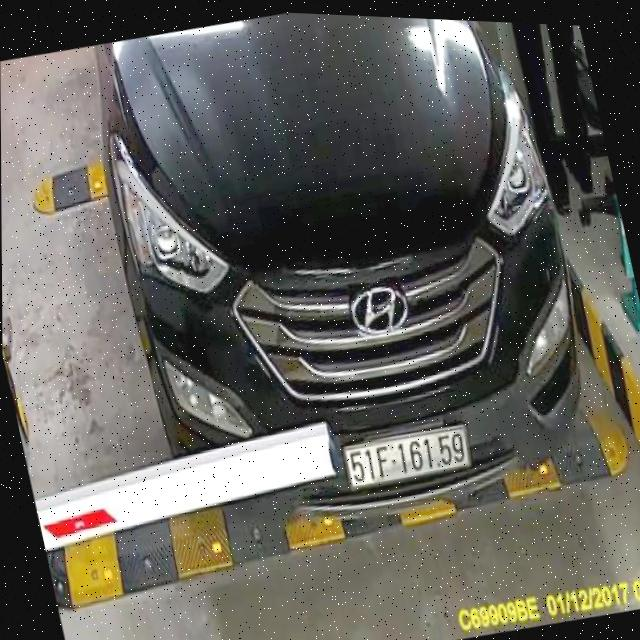car: (75, 3, 625, 574)
plate: (336, 413, 478, 501)
